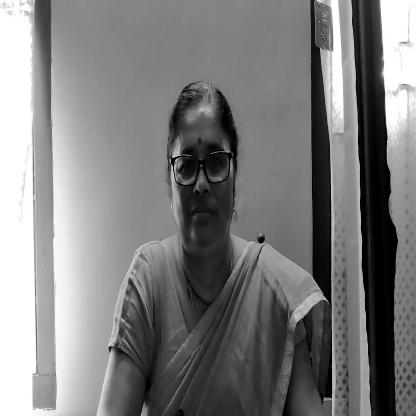Normal: (164, 81, 238, 248)
